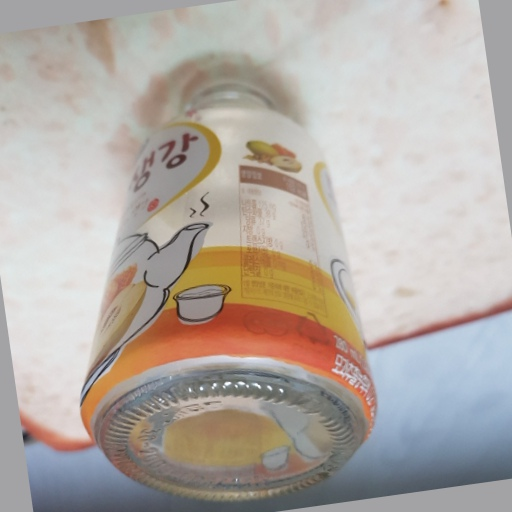Glass_4: (82, 80, 379, 498)
